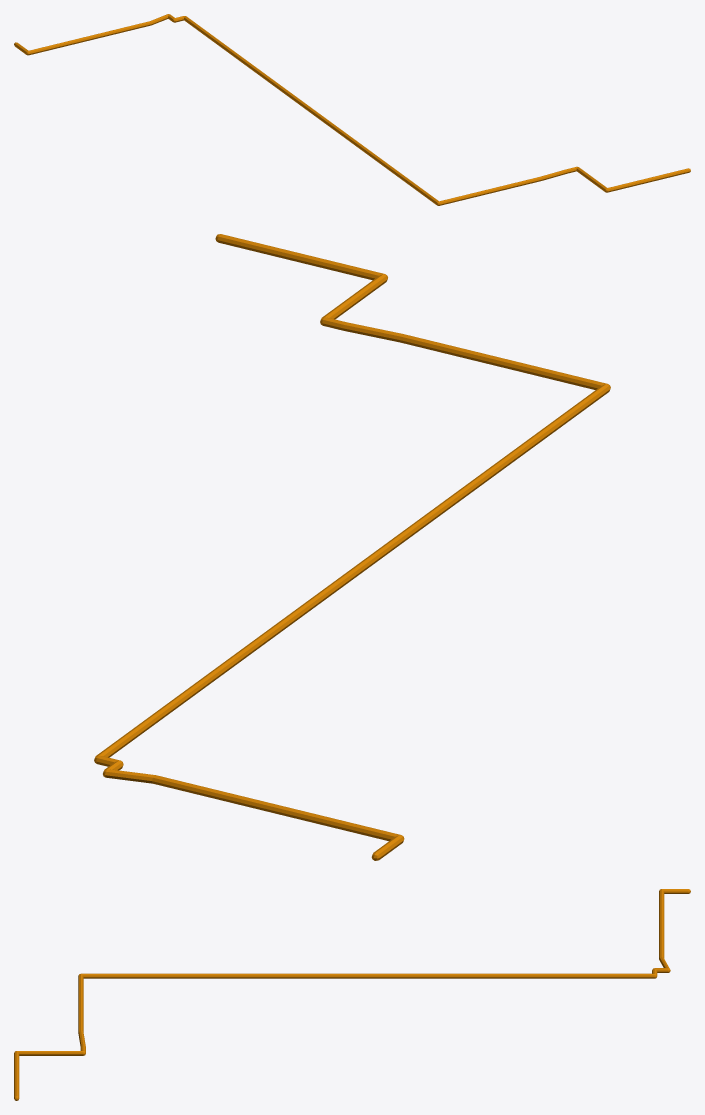
3 renders of one model, top to bottom at view 1: azimuth 30°, elevation 25°; view 2: azimuth 150°, elevation 25°; view 3: azimuth 270°, elevation 25°, orthographic. The views are drawn at different scales.
Bounding box in the file's own units: 1855 × 20 × 2537.
